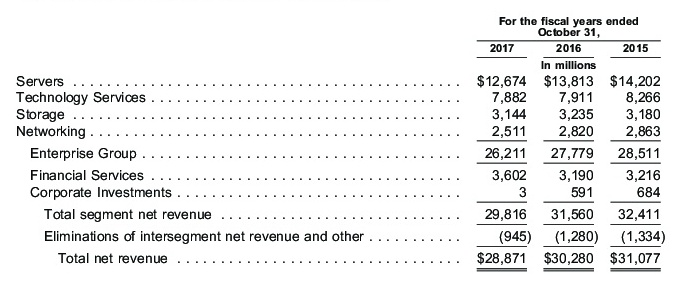table: (0, 0, 677, 286)
